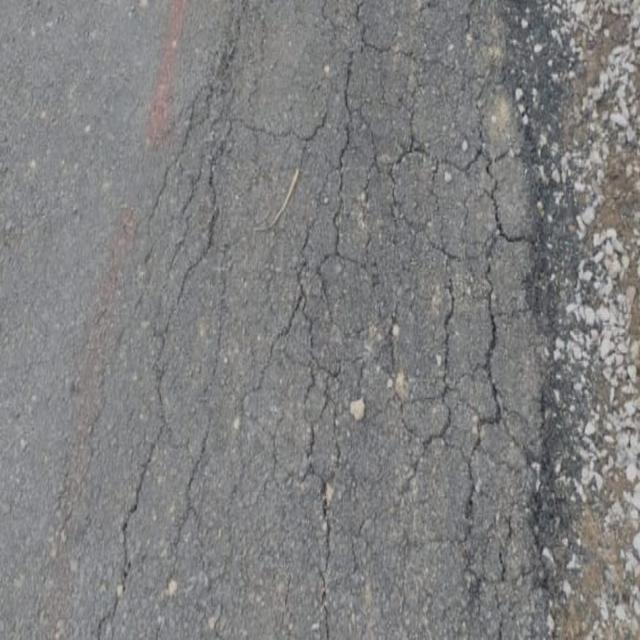Retak Buaya: (258, 7, 544, 556)
